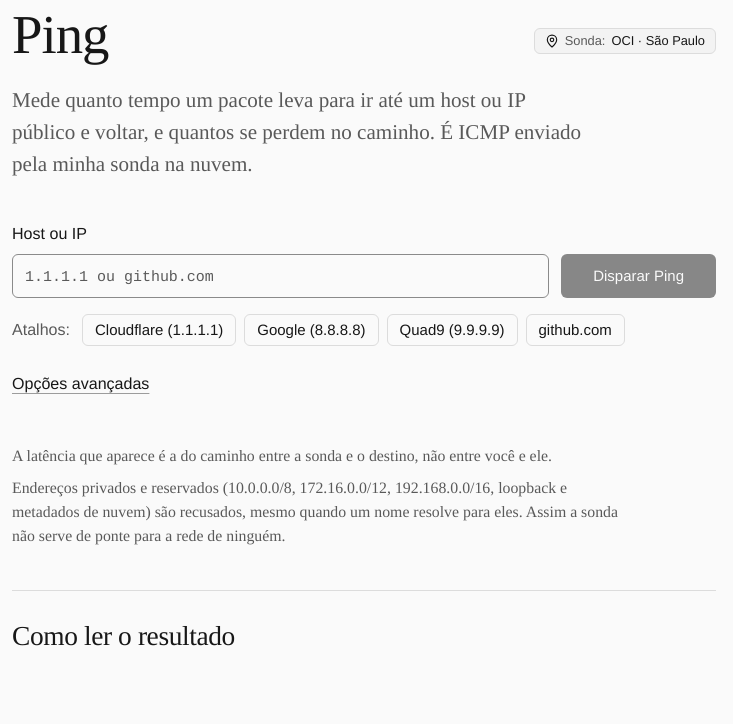
Test: Ping (comportamento) › host que não devolveu nenhum pacote aparece em vermelho, sem latências
Step 1. Type "example.com" into the field → (281, 276), box [12,254,549,298]
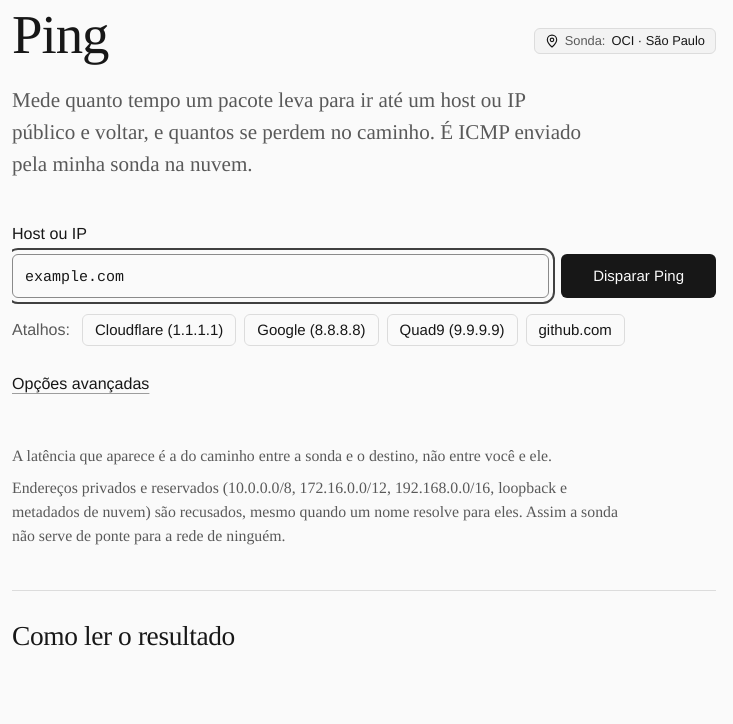
Step 2. Click the button "Disparar Ping" → (639, 276), box [561,254,716,298]
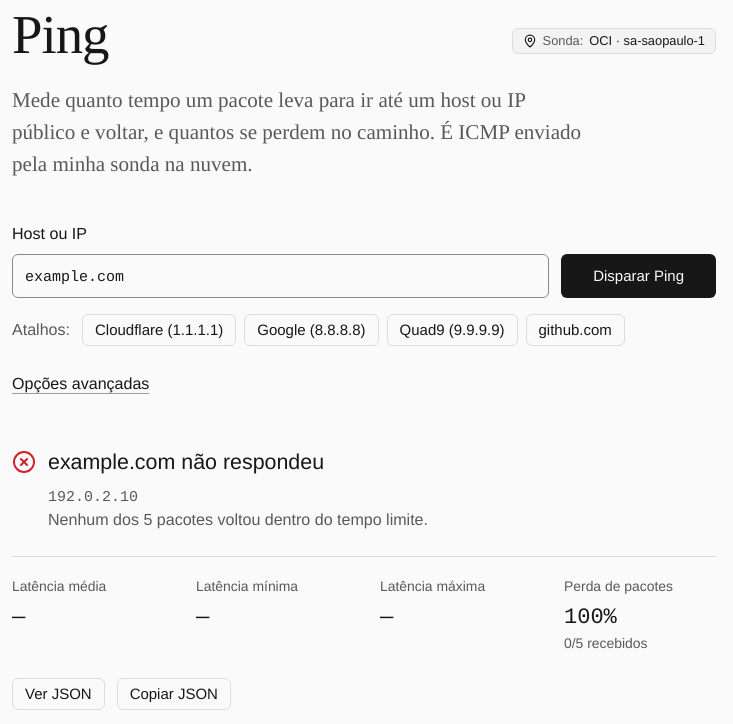
Now the heading "example.com não respondeu" is shown, box [48,446,324,478]
Now the text "Nenhum dos 5 pacotes voltou dentro do tempo limite." is shown, box [48,510,428,529]
Now the text "100%" is shown, box [564,601,617,630]
